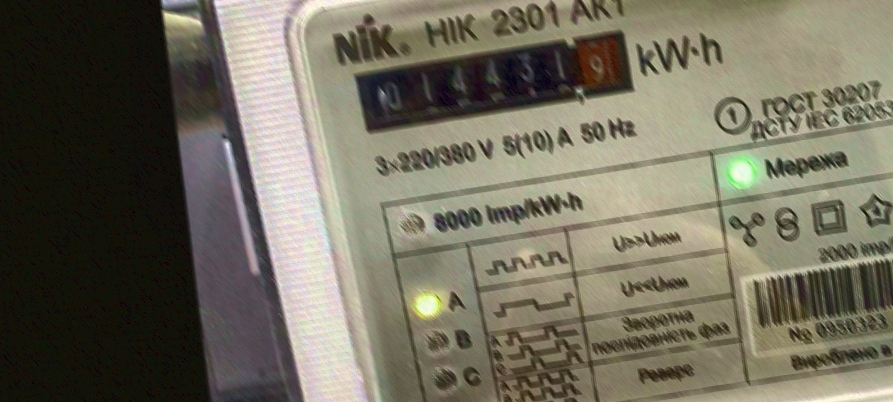0: (381, 77, 405, 112)
1: (416, 68, 438, 103), (552, 47, 569, 81)
3: (515, 51, 538, 85)
4: (447, 61, 472, 96), (481, 54, 503, 90)
9: (587, 51, 607, 83)
screen: (345, 21, 649, 142)
